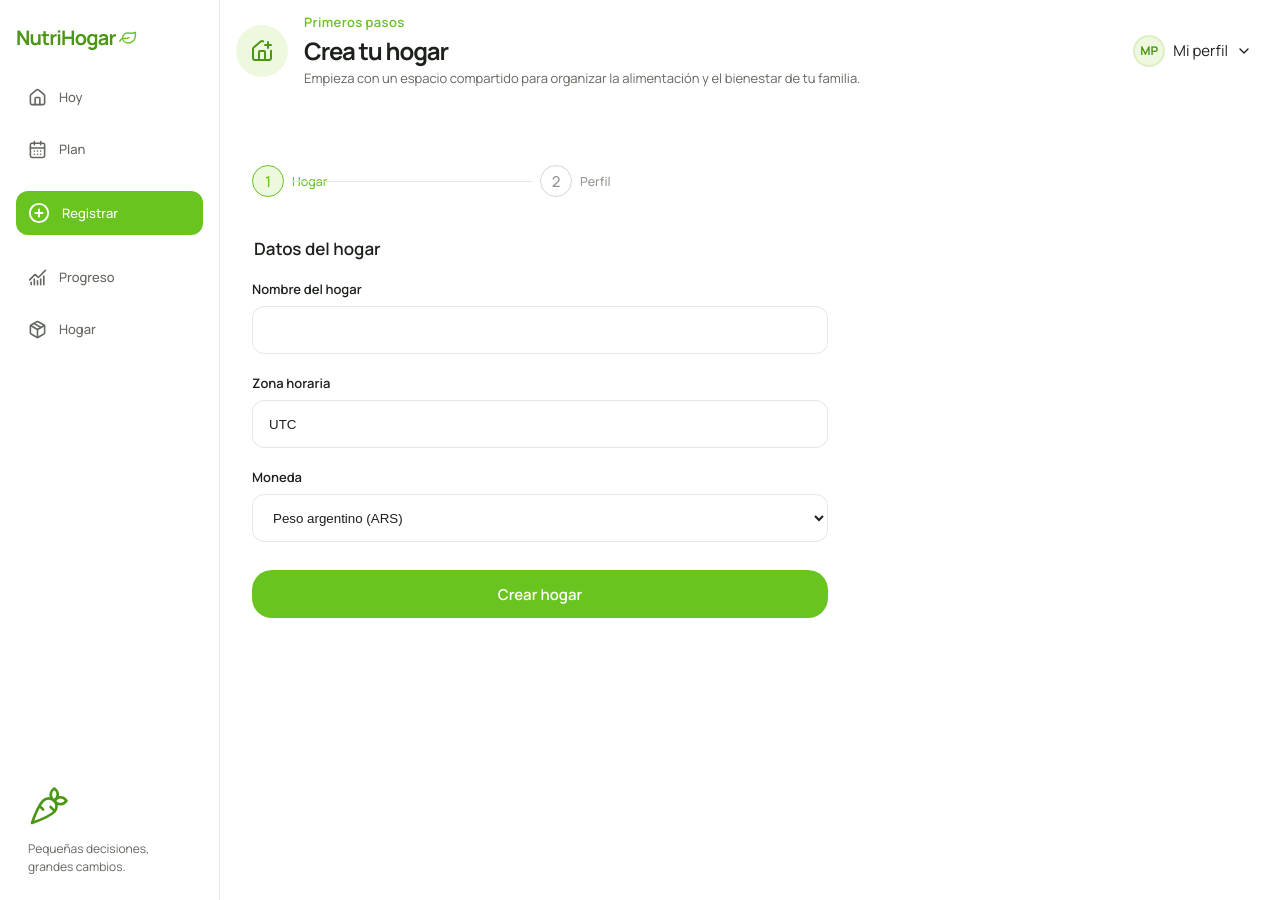
Test case: OnboardingPage › creates a household and continues with the adult profile
Type "Hogar Sojo" into the field labelled "Nombre del hogar" at [540, 330], box [252,306,828,354]
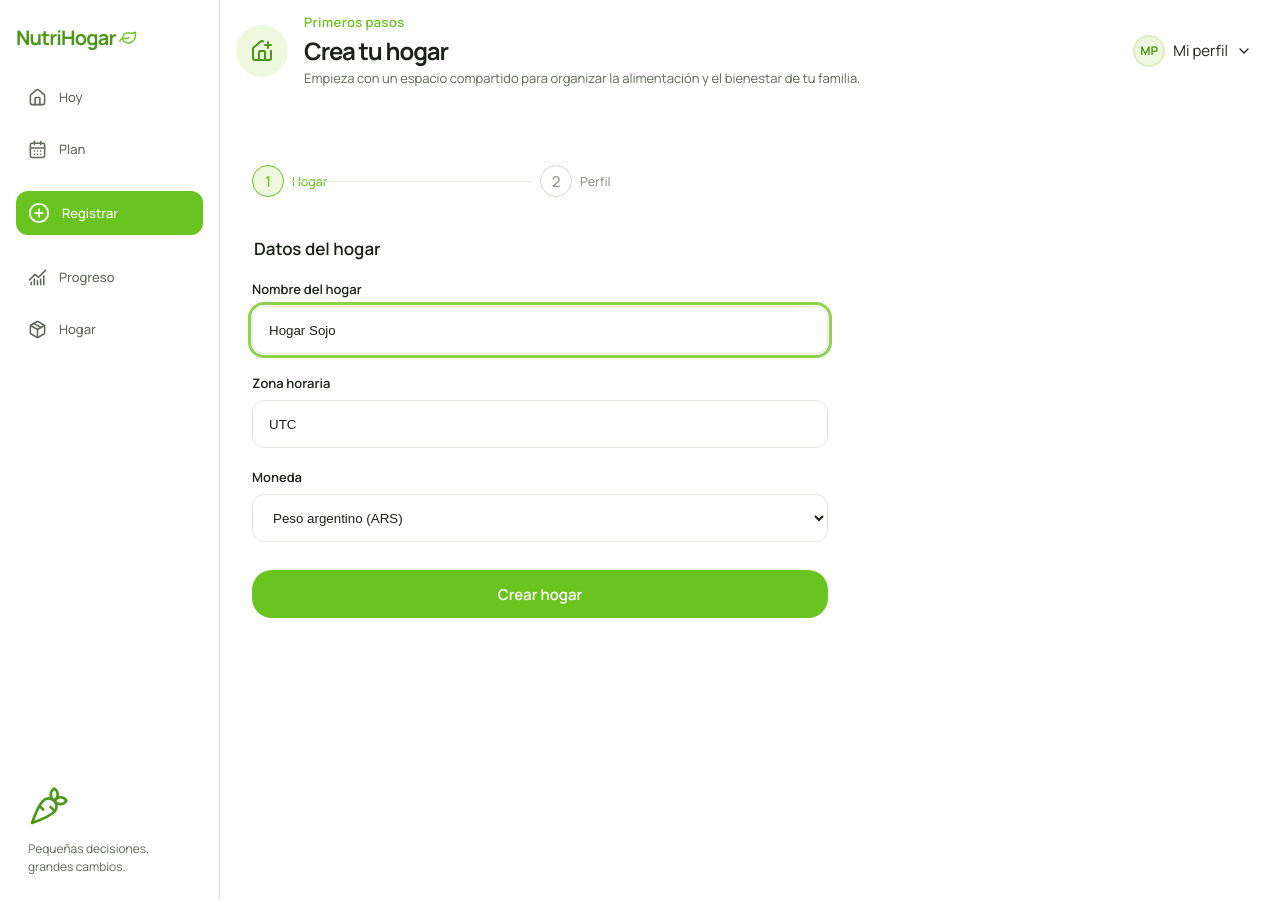
Click the button "Crear hogar" at [540, 594], box [252,570,828,618]
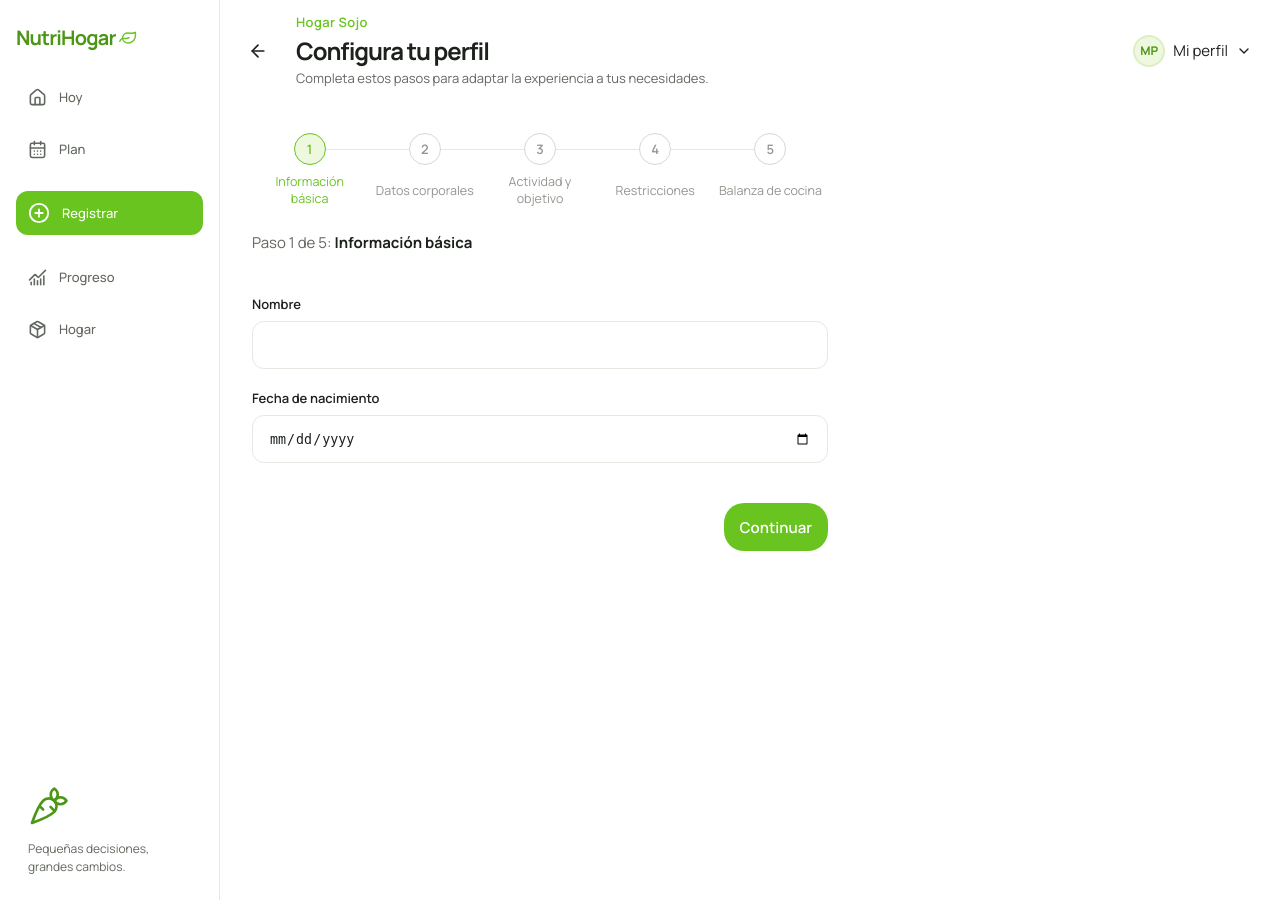
Expected: the heading "Configura tu perfil" is shown, [296,34,489,67]
